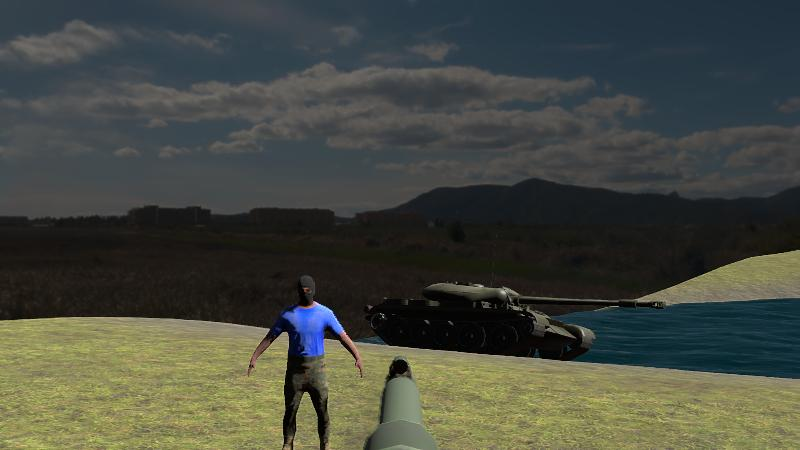Human: (246, 273, 364, 449)
Tank: (364, 280, 671, 361)
